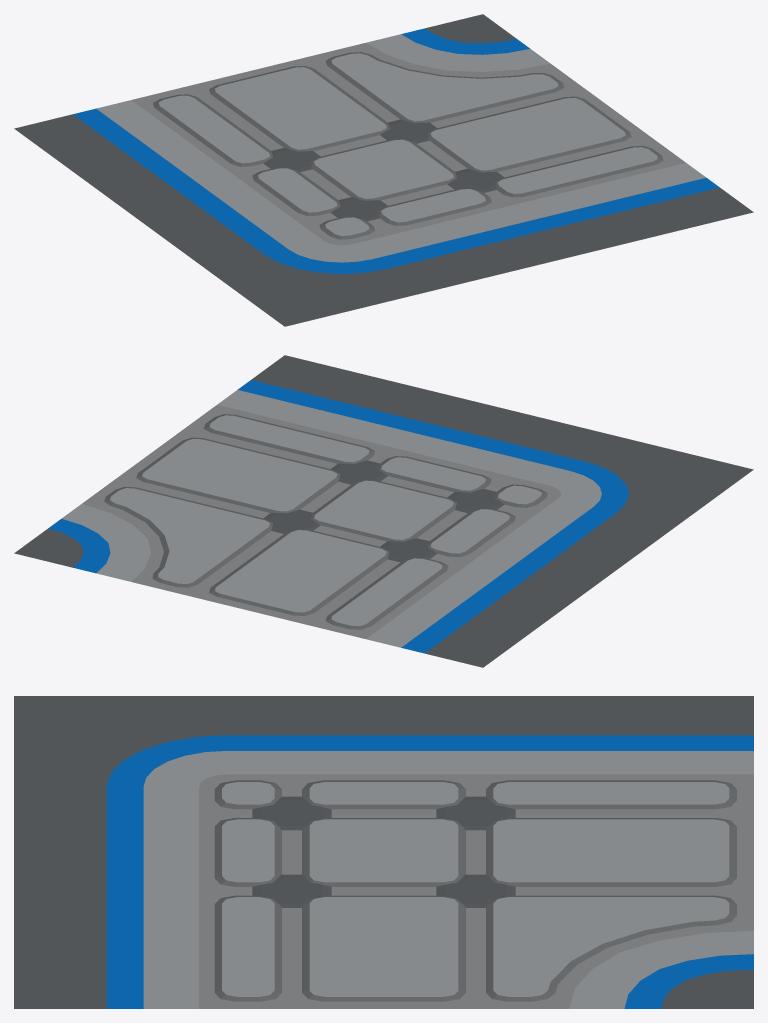
The model's file is Floor_type_B_016.fbx.
3 renders of one model, top to bottom at view 1: azimuth 30°, elevation 25°; view 2: azimuth 150°, elevation 25°; view 3: azimuth 270°, elevation 25°, orthographic. The views are drawn at different scales.
Parts seen in each view (by area): view 1: Floor_type_B_016; view 2: Floor_type_B_016; view 3: Floor_type_B_016.
Boxes of the visible parts, left/top/right/bottom form: Floor_type_B_016: left=14, top=14, right=753, bottom=326; Floor_type_B_016: left=14, top=355, right=753, bottom=667; Floor_type_B_016: left=14, top=696, right=753, bottom=1008.
Bounding box in the file's own units: 400 × 400 × 1.34.
